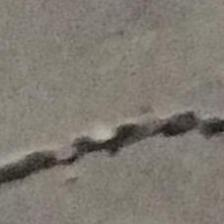Crack: (0, 98, 224, 201)
